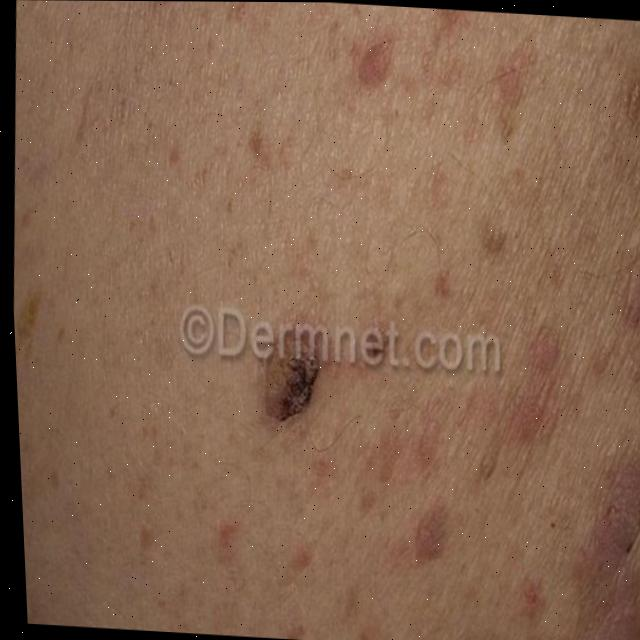Eczema: (32, 0, 640, 640)
